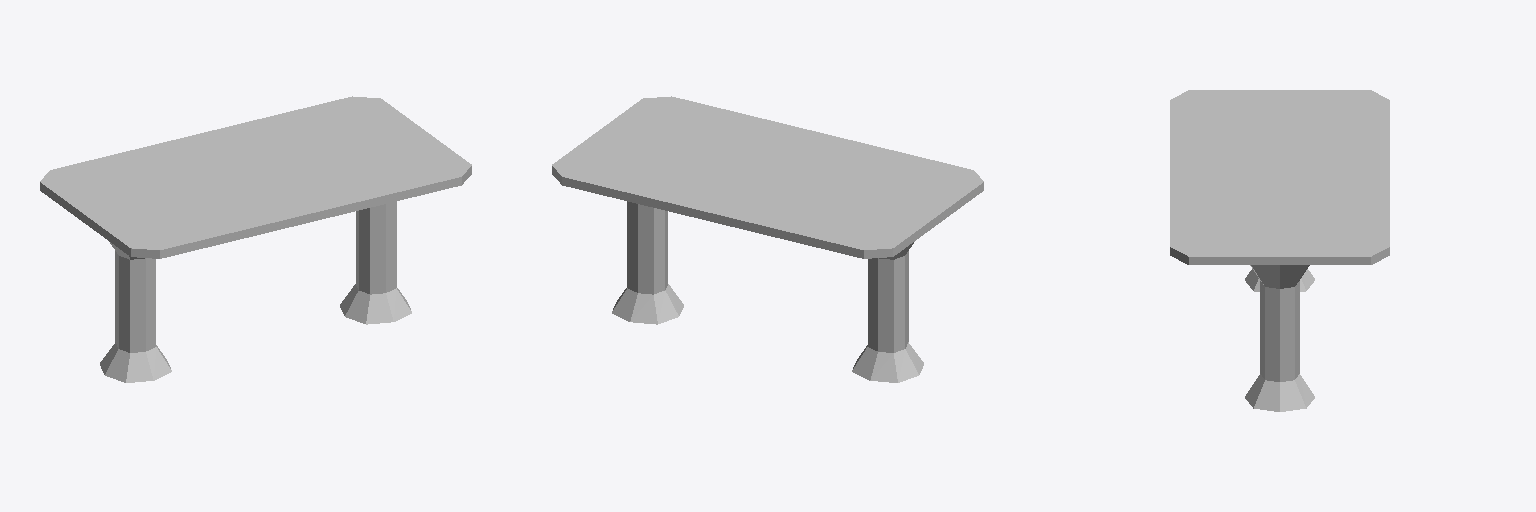
The model's file is Table.obj.
3 renders of one model, left to right at view 1: azimuth 30°, elevation 25°; view 2: azimuth 150°, elevation 25°; view 3: azimuth 270°, elevation 25°, orthographic.
Visible parts, largest first — view 1: pCube1 group1; view 2: pCube1 group1; view 3: pCube1 group1.
Part boxes in pixels (x1,y1,x2,y2): pCube1 group1: (40, 96, 471, 382); pCube1 group1: (552, 96, 983, 382); pCube1 group1: (1170, 90, 1389, 411).
Size of the model in its own units: 365 by 169 by 203.